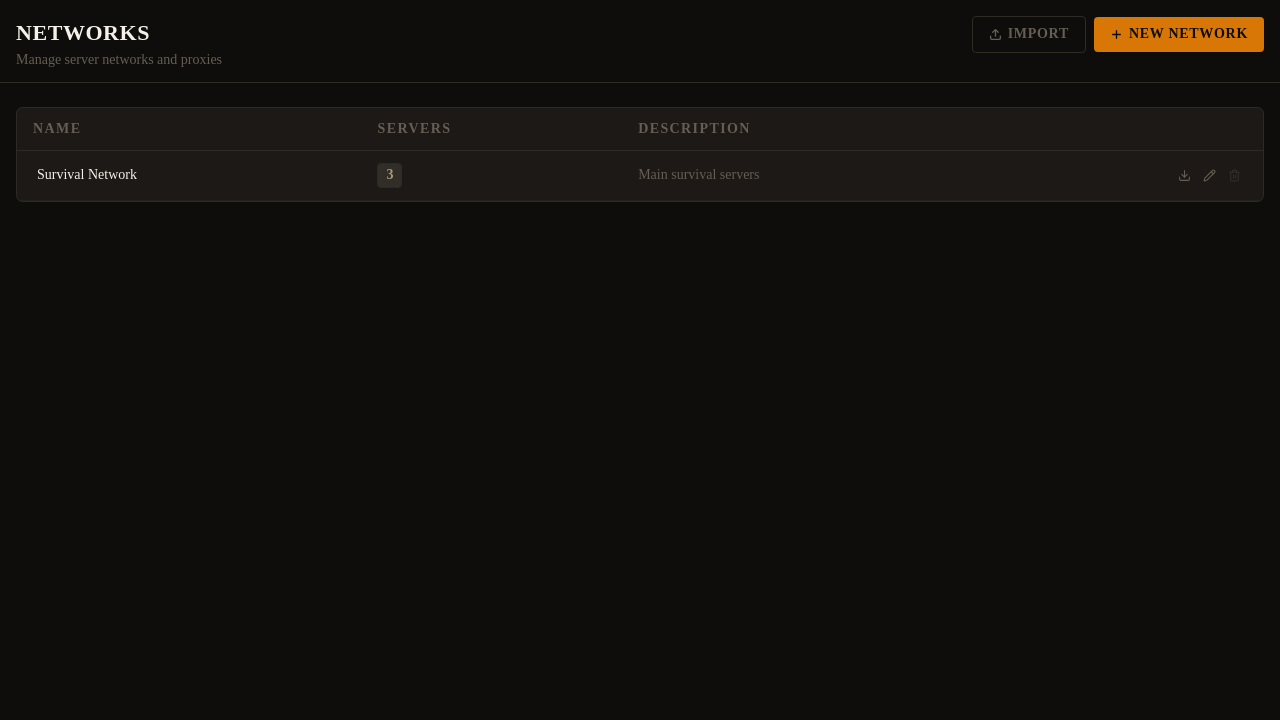
NetworksPage › edit modal opens with pre-filled data
Click the button titled "Edit" at (1210, 176), box [1197,163,1222,188]
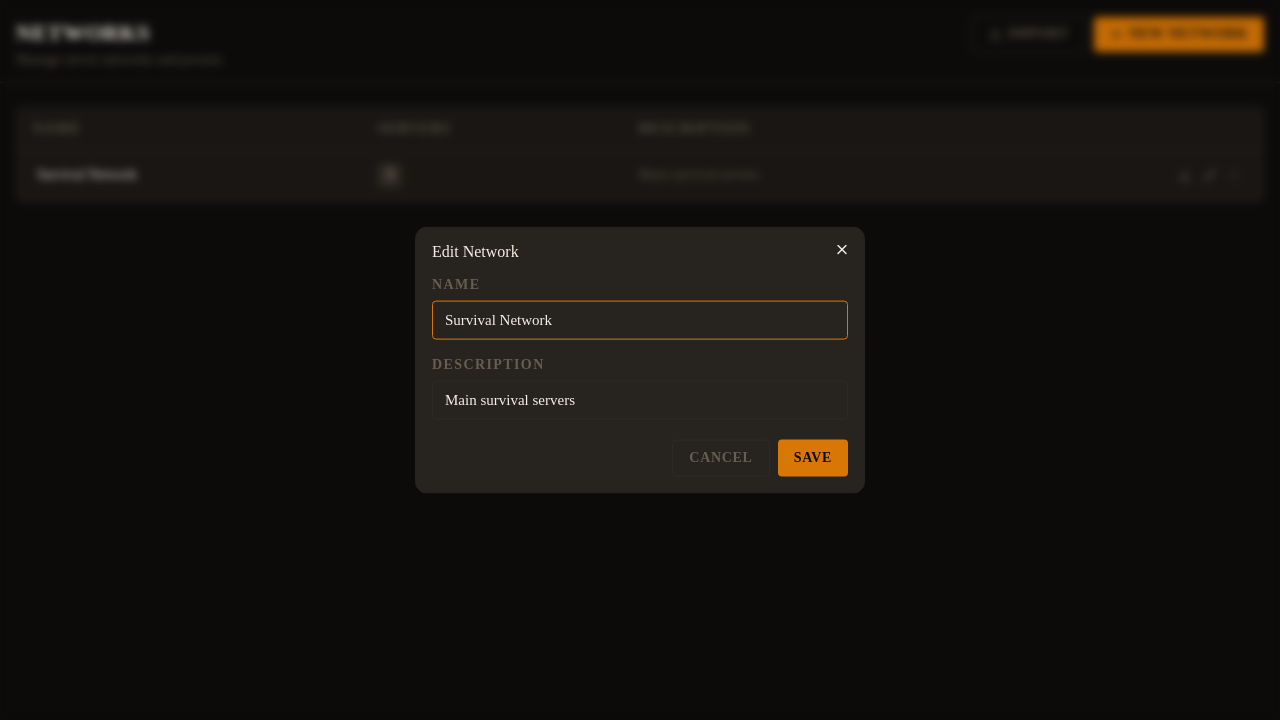
Now the field showing "Survival Network" is shown, box [432,300,848,340]
